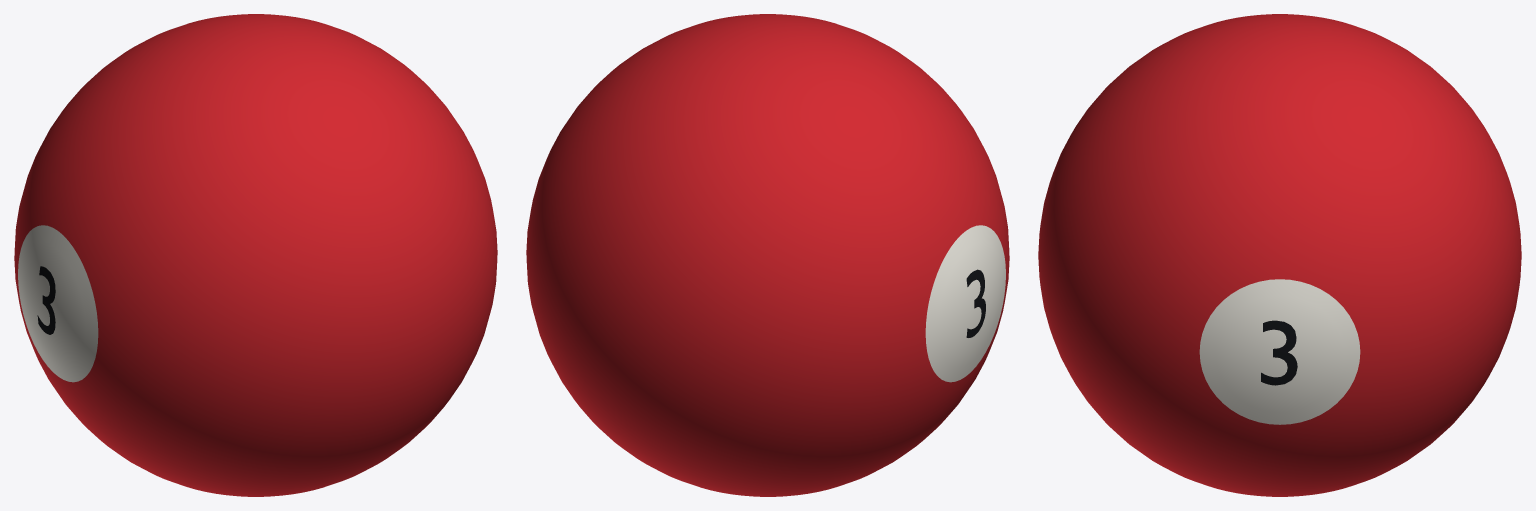
File: ball_03.glb
The picture shows the model from 3 angles, left to right: view 1: azimuth 30°, elevation 25°; view 2: azimuth 150°, elevation 25°; view 3: azimuth 270°, elevation 25°; orthographic projection.
Parts seen in each view (by area): view 1: Ball 03 | resin, Ball 03 | number medallion | opposite, Ball 03 | numeral 3 | opposite; view 2: Ball 03 | resin, Ball 03 | number medallion | opposite, Ball 03 | numeral 3 | opposite; view 3: Ball 03 | resin, Ball 03 | number medallion, Ball 03 | numeral 3.
Part boxes in pixels (x1,y1,x2,y2): Ball 03 | resin: (14,14,497,496); Ball 03 | number medallion | opposite: (18,225,98,382); Ball 03 | numeral 3 | opposite: (37,266,55,334); Ball 03 | resin: (526,14,1009,496); Ball 03 | number medallion | opposite: (925,225,1005,382); Ball 03 | numeral 3 | opposite: (966,269,985,337); Ball 03 | resin: (1038,14,1521,496); Ball 03 | number medallion: (1199,279,1360,424); Ball 03 | numeral 3: (1261,320,1297,385).
Bounding box in the file's own units: 0.0573 × 0.0571 × 0.0571.
